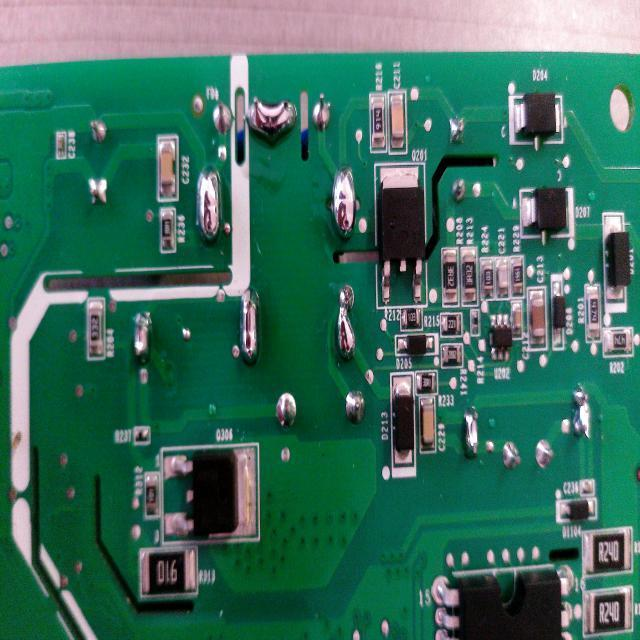Soldering shorted: (194, 154, 224, 250), (246, 92, 298, 146), (331, 159, 358, 247), (238, 280, 262, 376), (336, 282, 358, 368), (130, 309, 158, 366), (572, 382, 592, 442), (462, 402, 479, 467)
